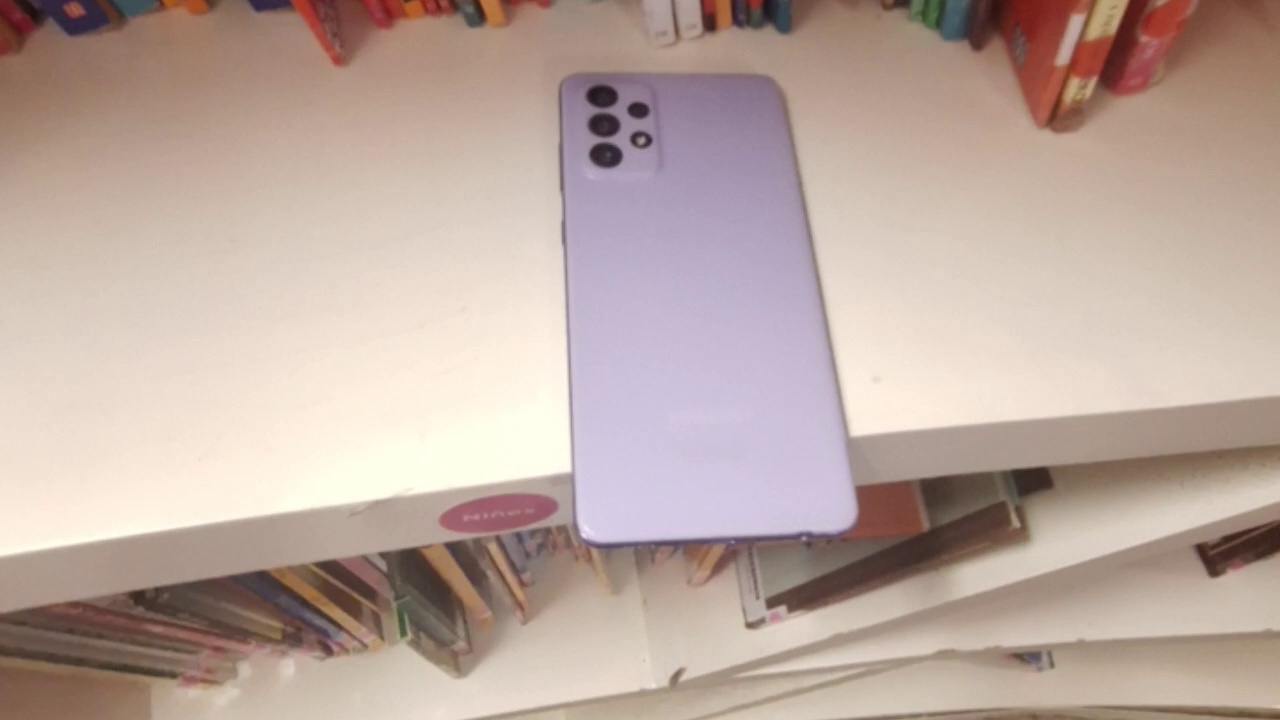celular: (558, 72, 861, 550)
